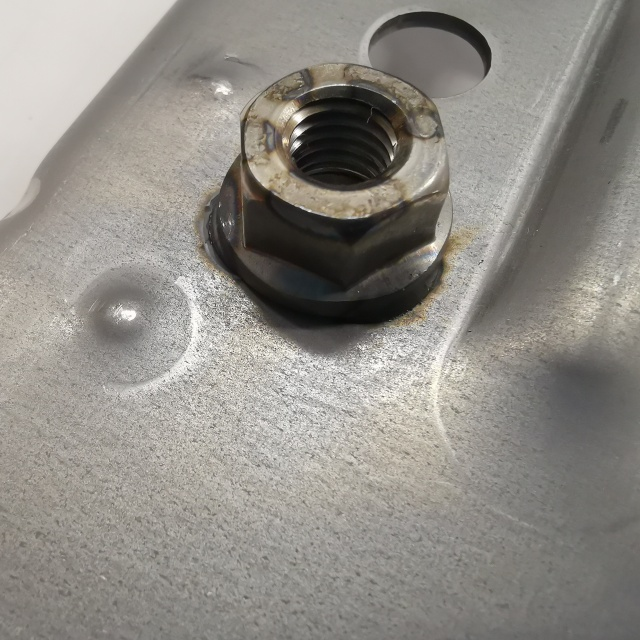dog: (202, 60, 455, 329)
